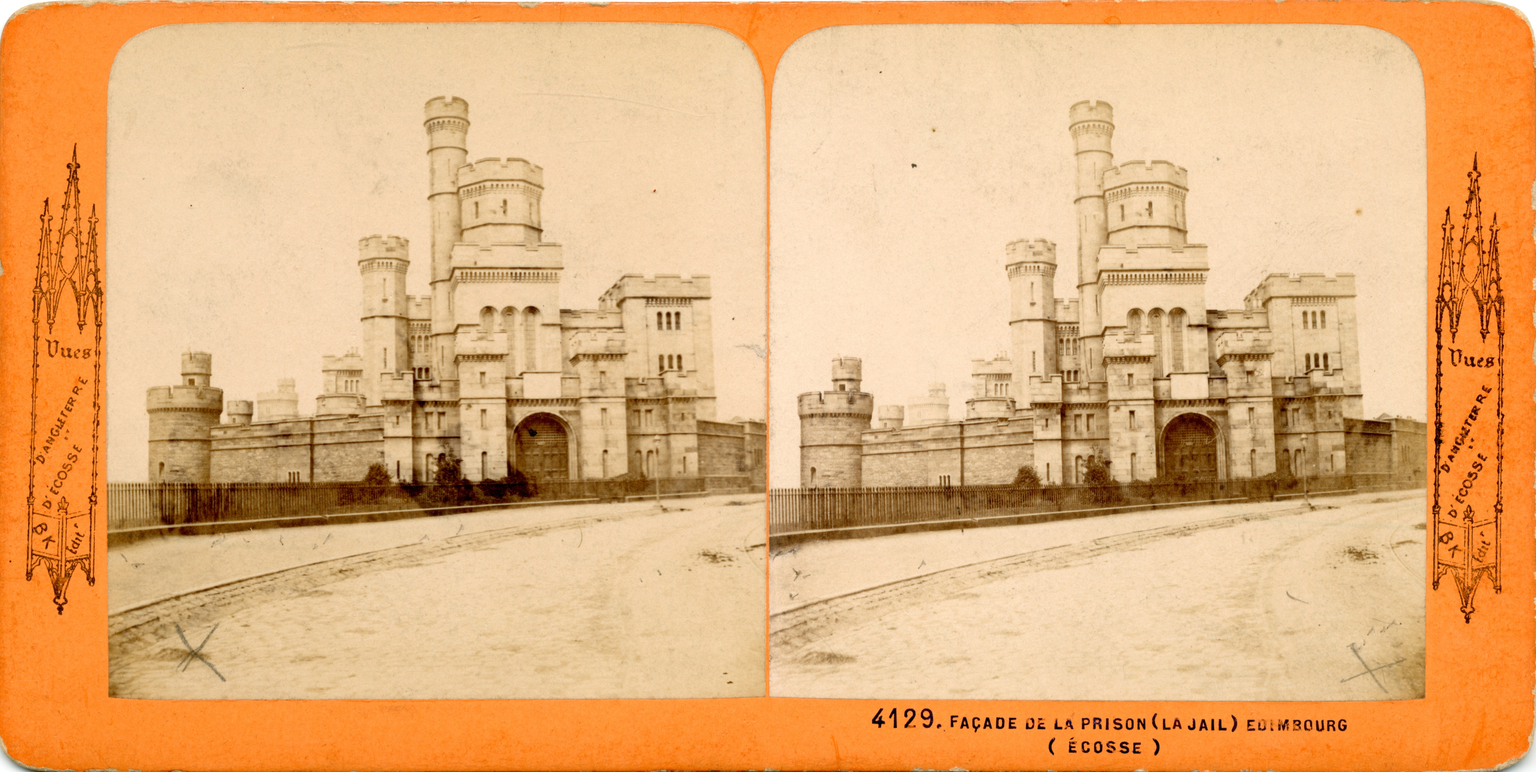half_image: (771, 23, 1427, 701), (108, 22, 766, 697)
